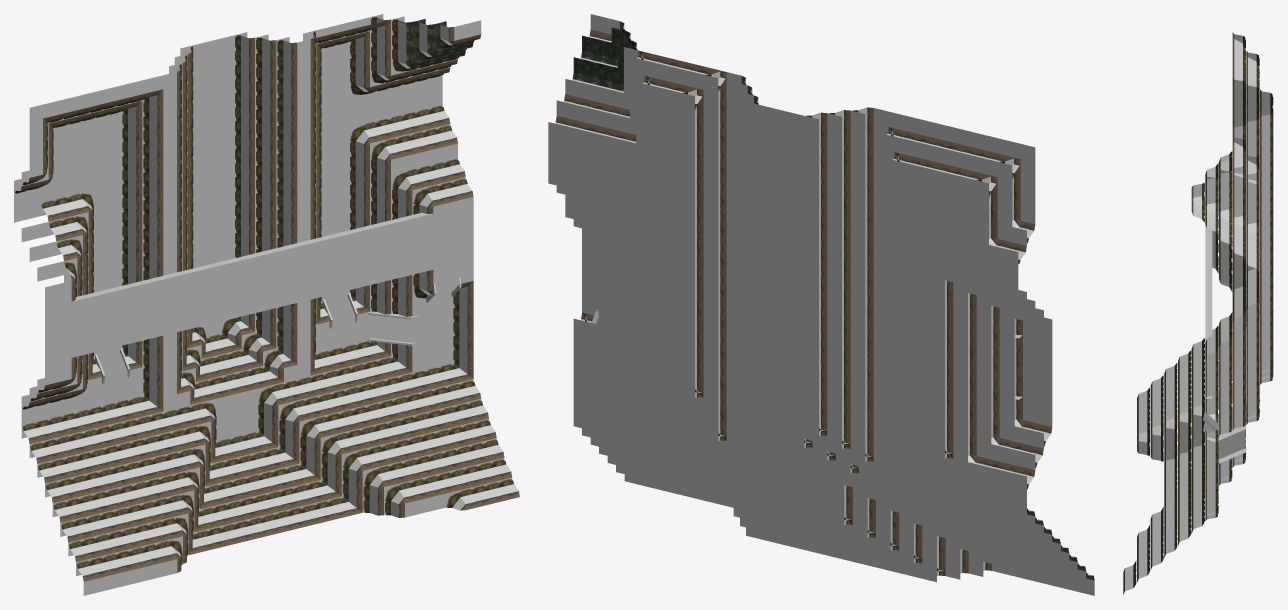
File: Victory-Road-1_01_02.obj
3 renders of one model, left to right at view 1: azimuth 30°, elevation 25°; view 2: azimuth 150°, elevation 25°; view 3: azimuth 270°, elevation 25°, orthographic. The views are drawn at different scales.
Visible parts, largest first — view 1: map; view 2: map; view 3: map.
Part boxes in pixels (box(x1,y1,x2,y2)): map: box(14, 14, 519, 595); map: box(548, 14, 1094, 595); map: box(1123, 32, 1273, 594).
Bounding box in the file's own units: 32 × 32 × 11.
